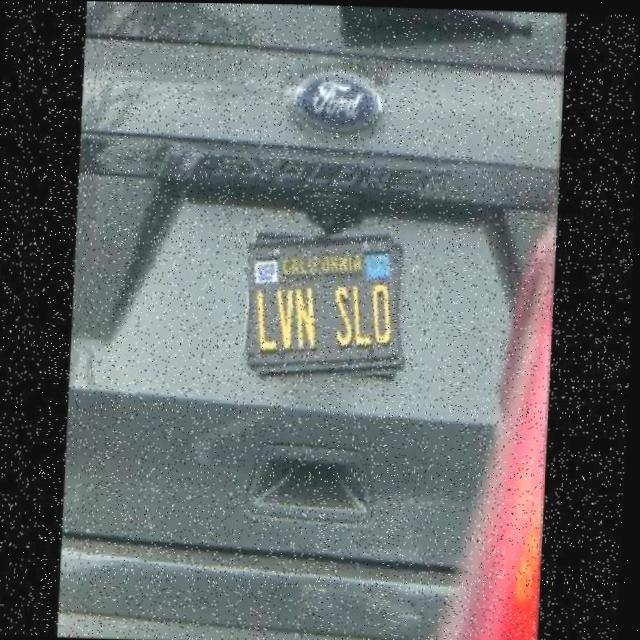LicensePlate: (244, 226, 409, 385)
